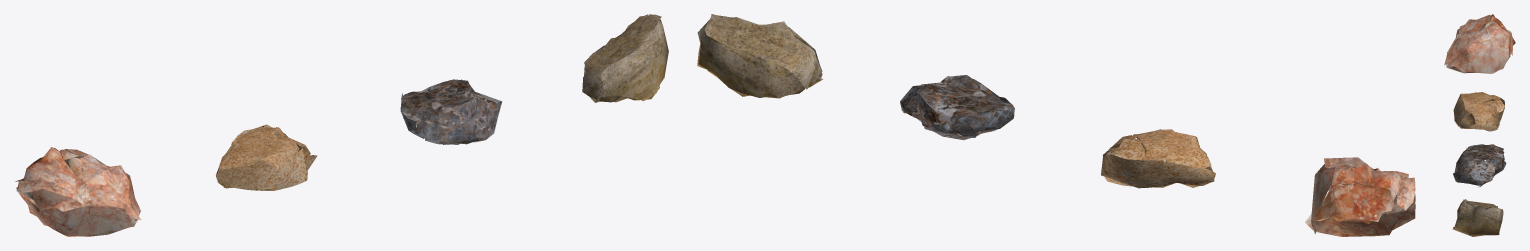
The model's file is cobbles.glb.
3 views of the same model, side by side, from view 1: azimuth 30°, elevation 25°; view 2: azimuth 150°, elevation 25°; view 3: azimuth 270°, elevation 25° (orthographic). The views are drawn at different scales.
Parts seen in each view (by area): view 1: namaqualand_rocks_02_a; view 2: namaqualand_rocks_02_a; view 3: namaqualand_rocks_02_a.
Boxes of the visible parts, <box> form: namaqualand_rocks_02_a: <box>15,14,668,236</box>; namaqualand_rocks_02_a: <box>697,14,1415,236</box>; namaqualand_rocks_02_a: <box>1444,14,1515,236</box>.
Bounding box in the file's own units: 1.45 × 0.1587 × 0.2226.
1 material, 1 textured.
